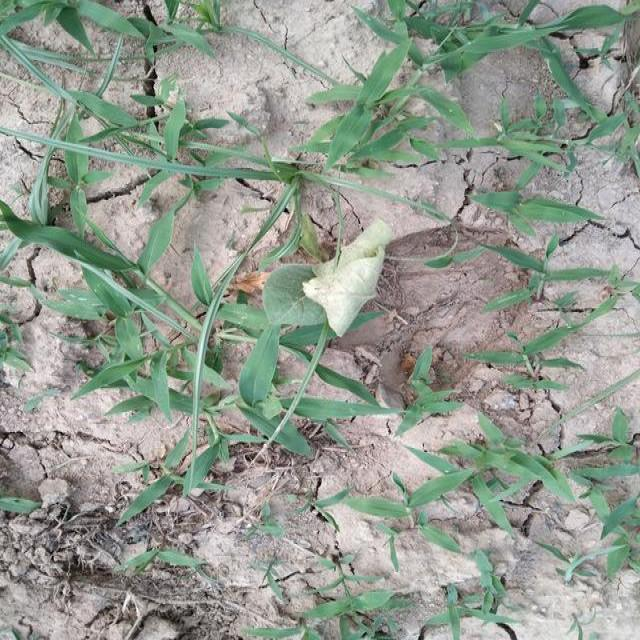crop: (247, 218, 392, 338)
